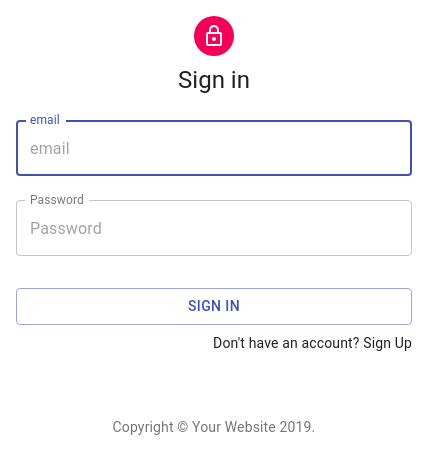
Test: Authentication › Does not log in with invalid password
# enter valid username and password
Type "wrong@test.io" into the field named "email". click: {"x": 214, "y": 148}
box: [16,120,412,176]
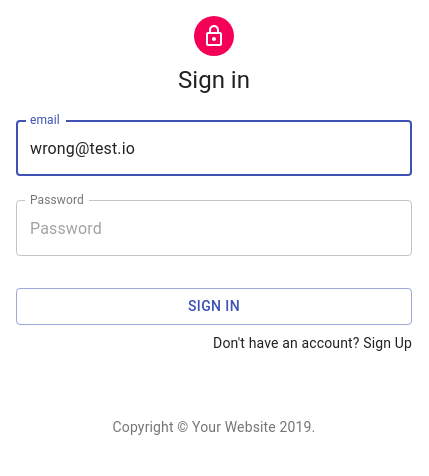
Type "wrongpwd" into the password field named "password". click: {"x": 214, "y": 228}
box: [16,200,412,256]
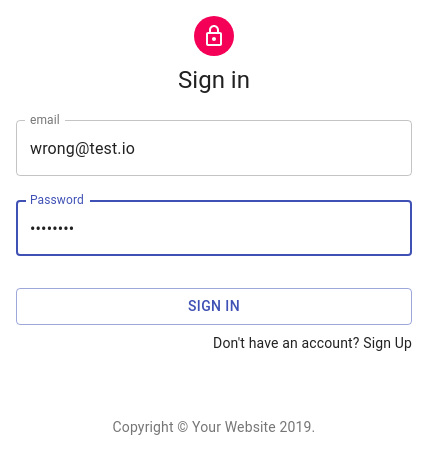
Click the button "SIGN IN". click: {"x": 214, "y": 307}
box: [16,288,412,325]
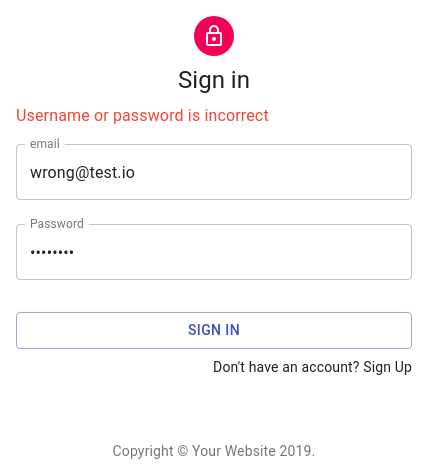
Now the text "Username or password is incorrect" is shown, box [16,106,269,125]
